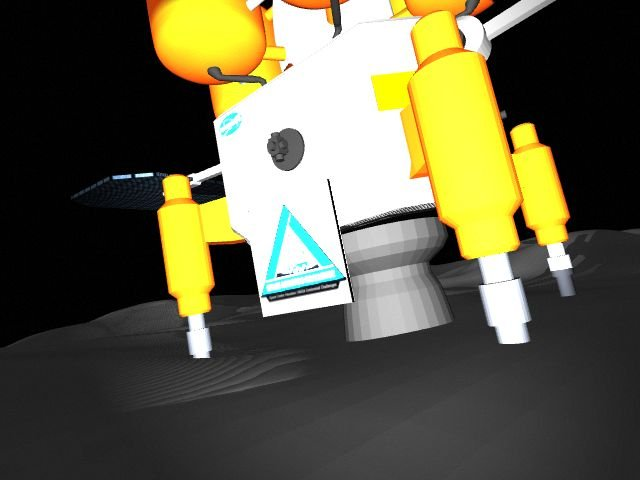basemarker: (260, 205, 347, 302)
